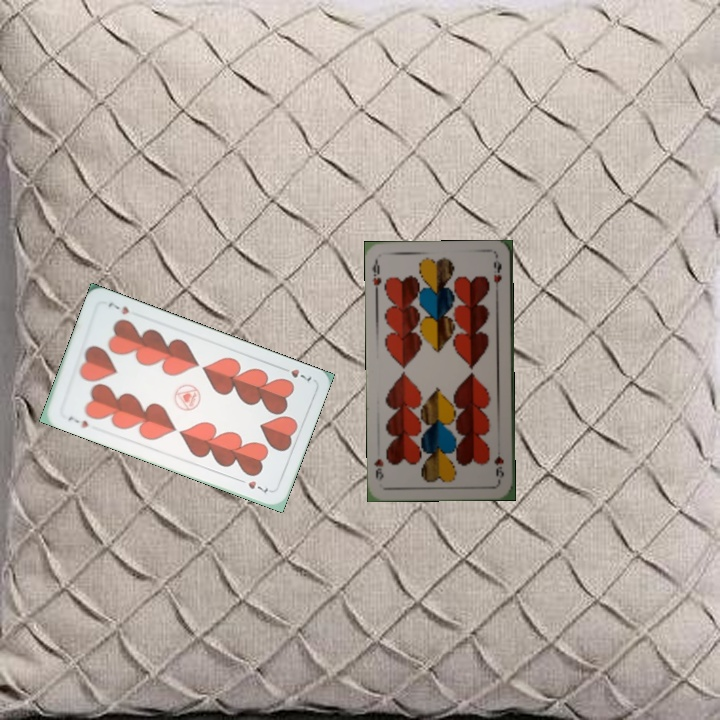H7: (276, 364, 314, 384), (64, 412, 91, 431)
H9: (368, 256, 384, 297), (491, 452, 507, 484)
